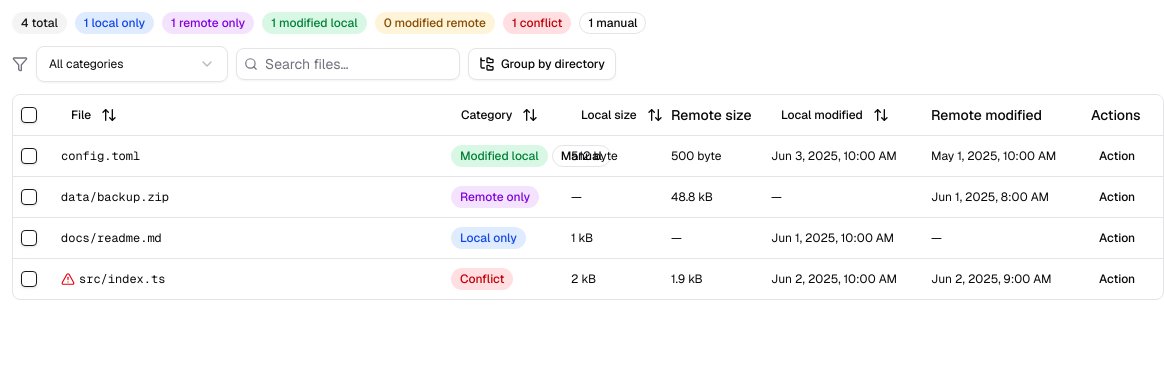
Batch toolbar appears when files selected › shows batch toolbar with action buttons when a file is selected
Check: the text "Push selected" is not shown
Note: Select one file
Click the checkbox named "Select docs/readme.md" at (29, 238), box left=21, top=230, right=37, bottom=246
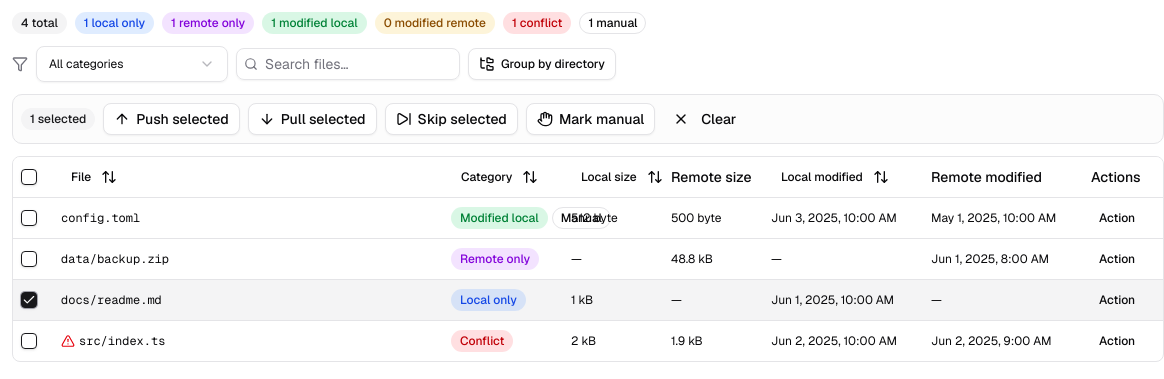
Check: the text "1 selected" is shown, box left=21, top=108, right=95, bottom=130
Check: the button "Push selected" is shown, box left=103, top=103, right=240, bottom=135
Check: the button "Pull selected" is shown, box left=248, top=103, right=377, bottom=135
